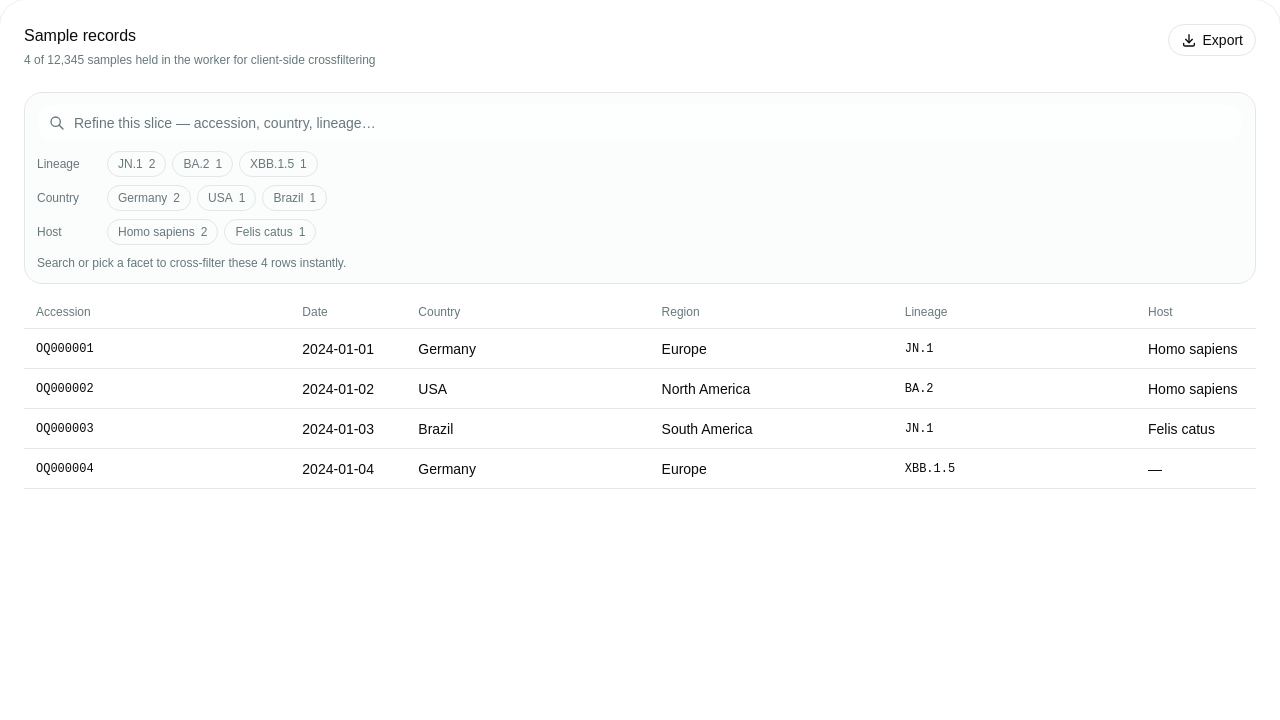
Test case: SampleTable (with the real crossfilter engine in-process) › refines the slice on the client without a new request
This screenshot has width=1280, height=720.
Expected: the text "OQ000001" is shown, 36,342 -> 94,356
Type "brazil" into the field named "Refine samples".
click(640, 123); type("brazil")  # box 37,105 -> 1243,141
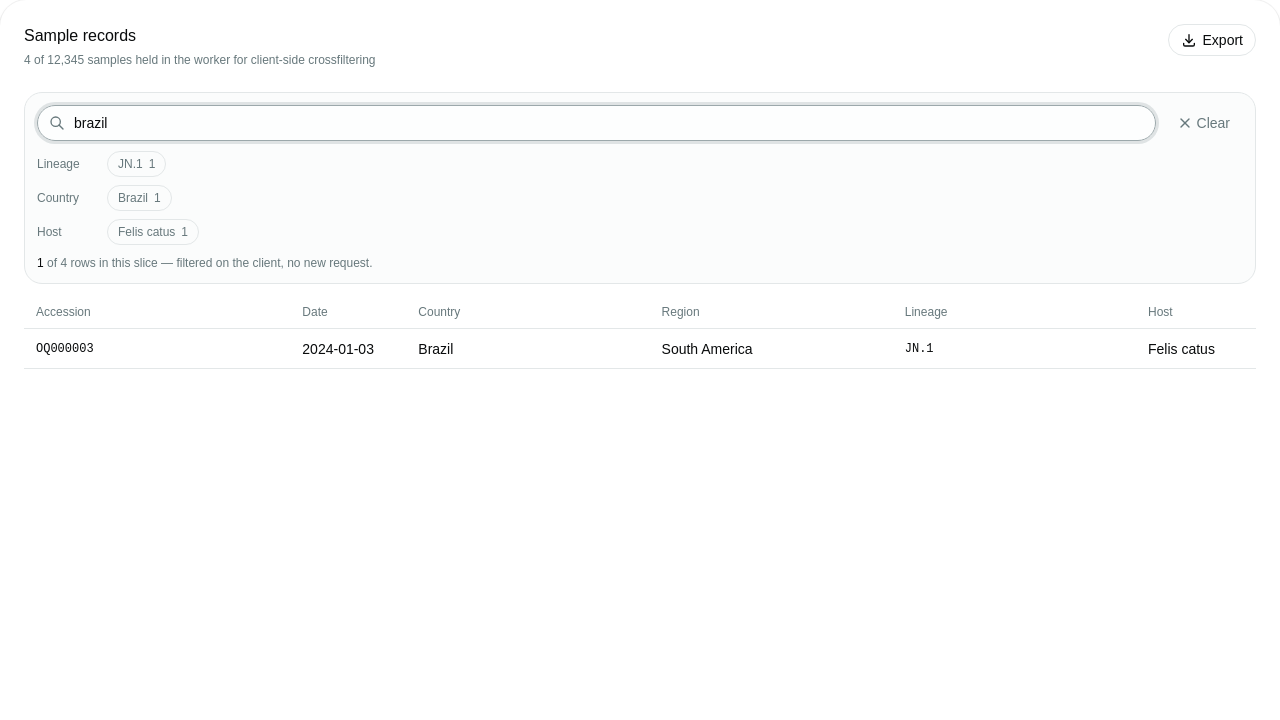
Expected: the text "OQ000003" is shown, 36,342 -> 94,356
Result: the text "OQ000001" is gone
Result: the text "rows in this slice — filtered on the client" is shown at 67,256 -> 373,270
Click the button "Clear".
click(1203, 123)  # box 1164,107 -> 1243,139
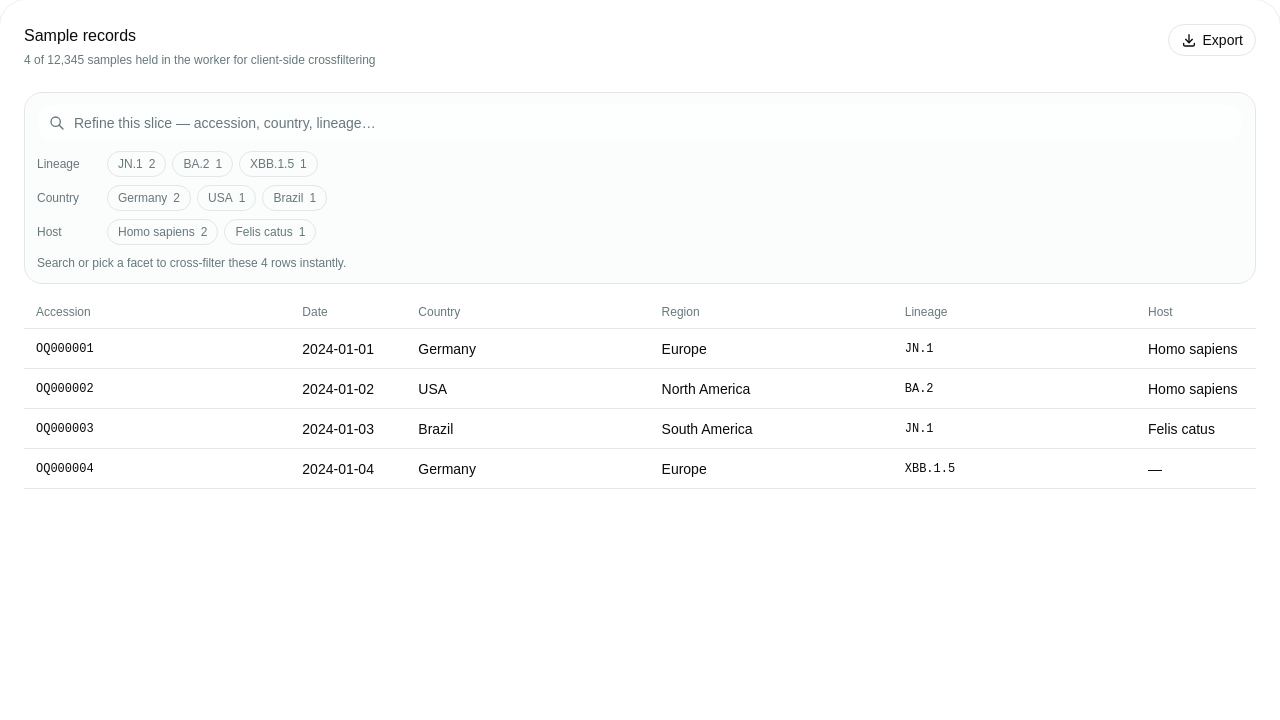
Result: the text "OQ000001" is shown at 36,342 -> 94,356
